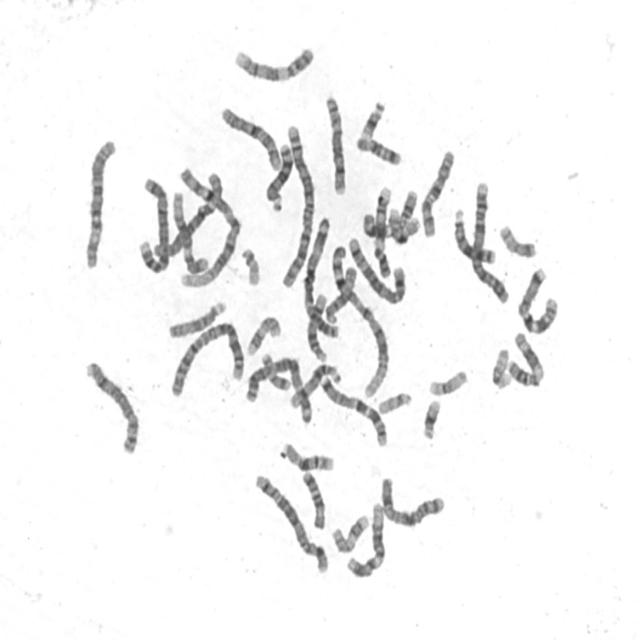A1: (328, 242, 392, 400), (174, 162, 243, 291)
A2: (277, 120, 317, 290), (166, 317, 246, 400)
A3: (298, 212, 340, 342), (254, 351, 314, 427)
B4: (467, 177, 512, 306), (135, 173, 173, 275)
B5: (251, 469, 331, 576), (344, 232, 408, 307)
C10: (217, 102, 283, 173), (418, 144, 457, 240)
C11: (361, 188, 421, 236), (504, 327, 546, 388)
C12: (168, 187, 210, 275), (343, 497, 387, 580)
C6: (144, 168, 225, 262), (79, 134, 118, 271)
C7: (316, 372, 389, 448), (514, 263, 560, 336)
C8: (81, 356, 141, 457), (321, 90, 348, 197)
C9: (230, 41, 316, 84), (370, 180, 394, 280)
D13: (450, 203, 499, 265), (262, 140, 295, 213)
D14: (302, 287, 330, 363), (291, 364, 341, 403)
D15: (165, 296, 229, 341), (321, 261, 359, 326)
E16: (279, 438, 336, 473), (384, 203, 421, 246)
E17: (328, 510, 372, 555), (244, 312, 283, 357)
E18: (298, 468, 327, 531), (353, 132, 403, 168)
F19: (425, 365, 469, 398), (488, 344, 513, 391)
F20: (496, 220, 538, 260), (258, 350, 292, 393)
G21: (356, 97, 388, 141), (419, 395, 443, 442)
G22: (375, 388, 414, 417), (238, 242, 262, 288)
X: (377, 473, 447, 531)
